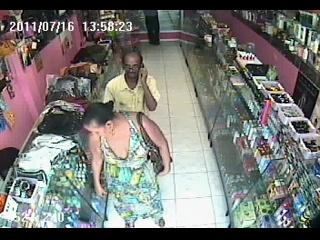Normal: (80, 101, 172, 227), (102, 52, 160, 114), (142, 10, 160, 46)
